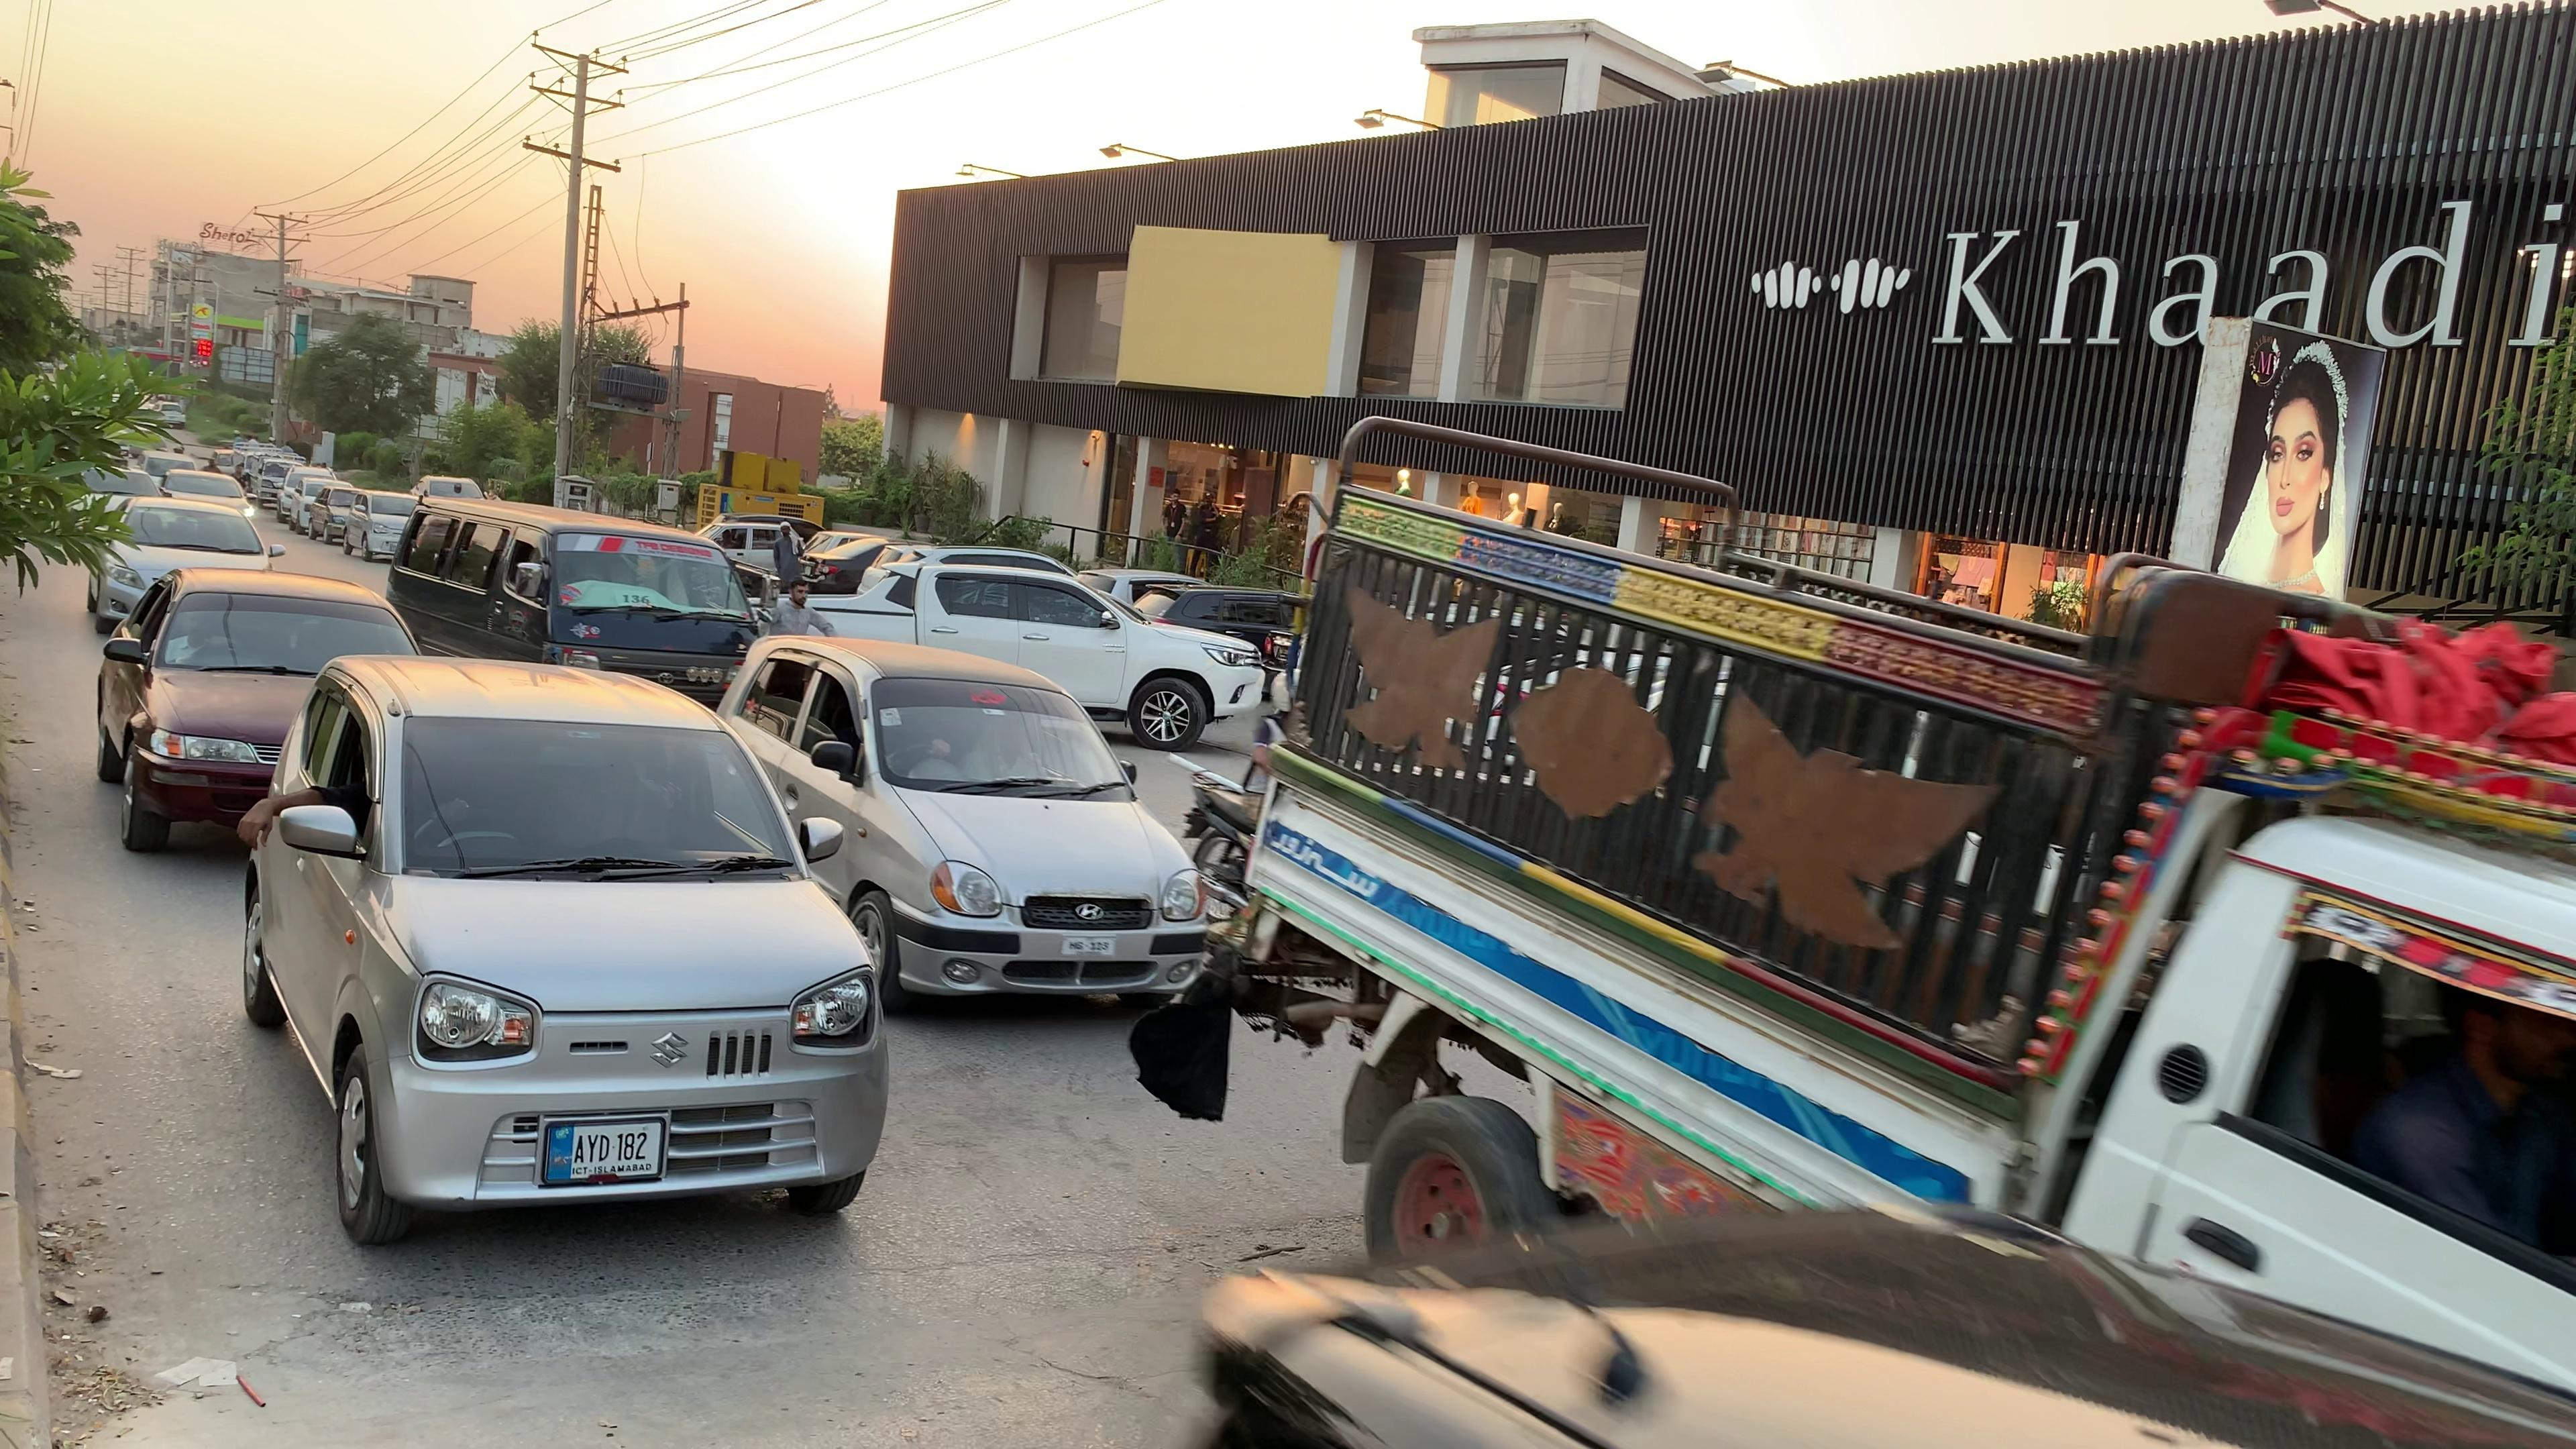windshield: (387, 701, 812, 906), (869, 676, 1148, 807), (547, 527, 759, 628)
